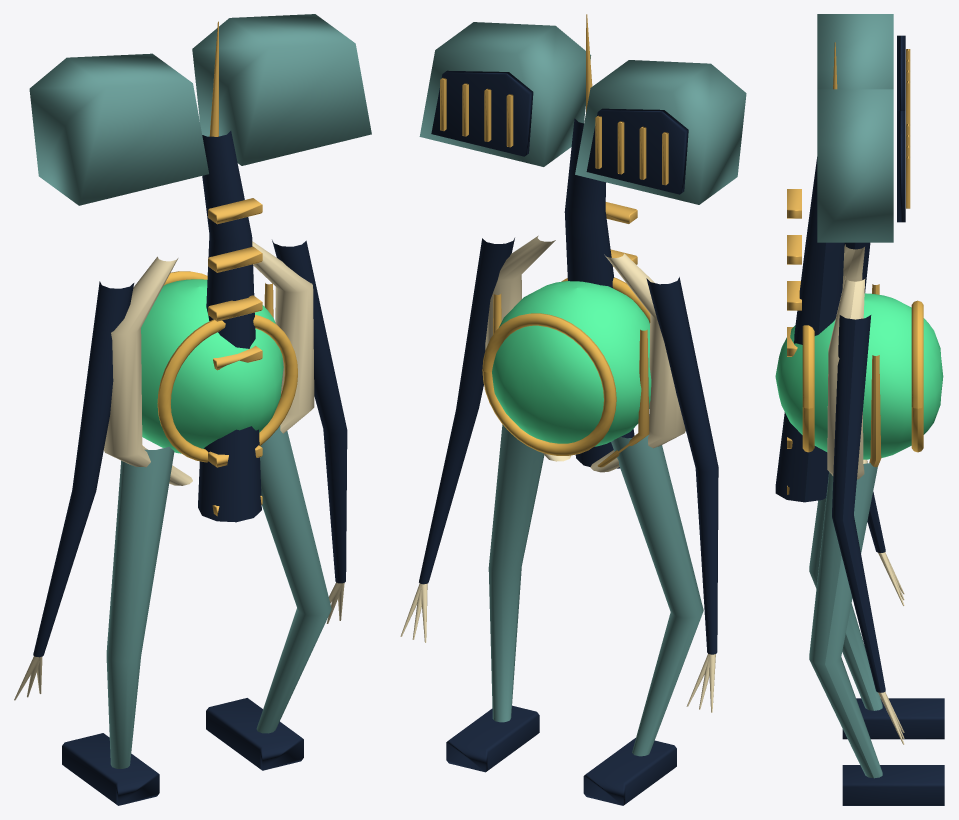
Rendered from boss_0.glb.
3 views of the same model, side by side, from view 1: azimuth 30°, elevation 25°; view 2: azimuth 150°, elevation 25°; view 3: azimuth 270°, elevation 25° (orthographic). The views are drawn at different scales.
Parts seen in each view (by area): view 1: Resonator (×2), LongShin (×2), GlassCore, HangingCableArm (×2), OpenRib (×2), CableSpine, Hoof (×2), GiltOrbRim, Vertebra (×3), Aerial; view 2: Resonator (×2), LongShin (×2), GlassCore, HangingCableArm (×2), BlackThroat (×2), Hoof (×2), OpenRib (×2), CableSpine, GiltOrbRim, GiltRib; view 3: Resonator (×2), GlassCore, LongShin (×2), HangingCableArm (×2), CableSpine, Hoof (×2), GiltOrbRim (×2), OpenRib (×2), BlackThroat (×2), Vertebra (×3), GiltRib.
Part boxes in pixels (left/top/right/bottom): Resonator (×2): left=29, top=14, right=371, bottom=205; LongShin (×2): left=106, top=425, right=331, bottom=768; GlassCore: left=141, top=279, right=283, bottom=453; HangingCableArm (×2): left=33, top=240, right=347, bottom=657; OpenRib (×2): left=104, top=241, right=314, bottom=485; CableSpine: left=198, top=131, right=261, bottom=522; Hoof (×2): left=62, top=698, right=303, bottom=805; GiltOrbRim: left=157, top=315, right=297, bottom=462; Vertebra (×3): left=208, top=198, right=262, bottom=321; Aerial: left=209, top=21, right=218, bottom=136; Resonator (×2): left=419, top=22, right=746, bottom=204; LongShin (×2): left=488, top=424, right=703, bottom=756; GlassCore: left=492, top=281, right=651, bottom=446; HangingCableArm (×2): left=419, top=238, right=718, bottom=654; BlackThroat (×2): left=431, top=70, right=688, bottom=194; Hoof (×2): left=446, top=705, right=676, bottom=805; OpenRib (×2): left=484, top=235, right=685, bottom=472; CableSpine: left=564, top=118, right=634, bottom=468; GiltOrbRim: left=482, top=313, right=616, bottom=455; GiltRib: left=597, top=329, right=649, bottom=467; Resonator (×2): left=817, top=14, right=893, bottom=242; GlassCore: left=775, top=293, right=943, bottom=459; LongShin (×2): left=809, top=463, right=882, bottom=778; HangingCableArm (×2): left=832, top=242, right=885, bottom=692; CableSpine: left=775, top=157, right=844, bottom=502; Hoof (×2): left=842, top=698, right=944, bottom=805; GiltOrbRim (×2): left=802, top=300, right=923, bottom=452; OpenRib (×2): left=827, top=244, right=867, bottom=479; BlackThroat (×2): left=897, top=35, right=905, bottom=222; Vertebra (×3): left=787, top=189, right=801, bottom=310; GiltRib: left=869, top=355, right=881, bottom=467.
Bounding box in the file's own units: 1.34 × 3 × 0.6352.
